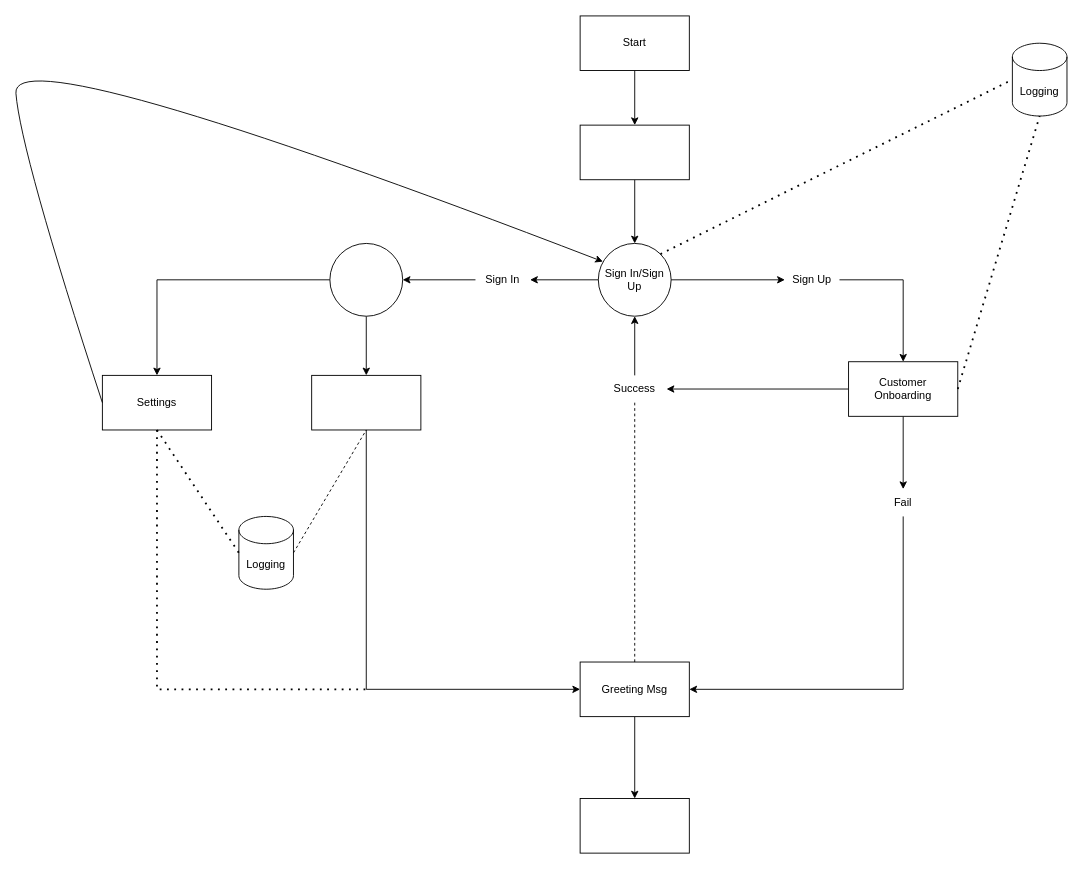
The diagram is 1084 pixels wide and 869 high, and some of its shapes have lost their labels. Each missing label, with the centre of its shape:
Banking Operations: (x=366, y=402)
Banking Operations/ Settings: (x=366, y=279)
End: (x=634, y=825)
Welcome Prompt: (x=634, y=152)
